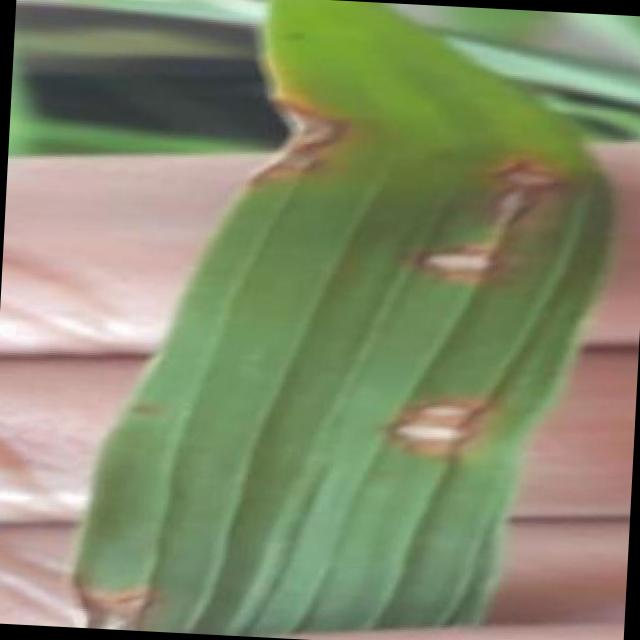Rice_Blast: (230, 68, 361, 204), (393, 213, 511, 311), (486, 138, 590, 202), (471, 182, 564, 252), (388, 412, 486, 464), (404, 374, 496, 426)
